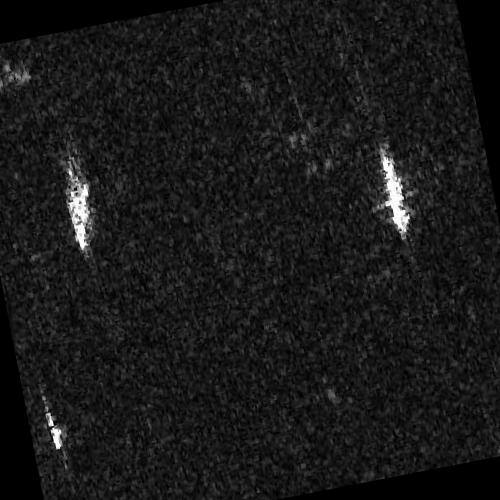ship: (379, 149, 409, 237), (65, 158, 91, 252), (42, 399, 63, 451)
